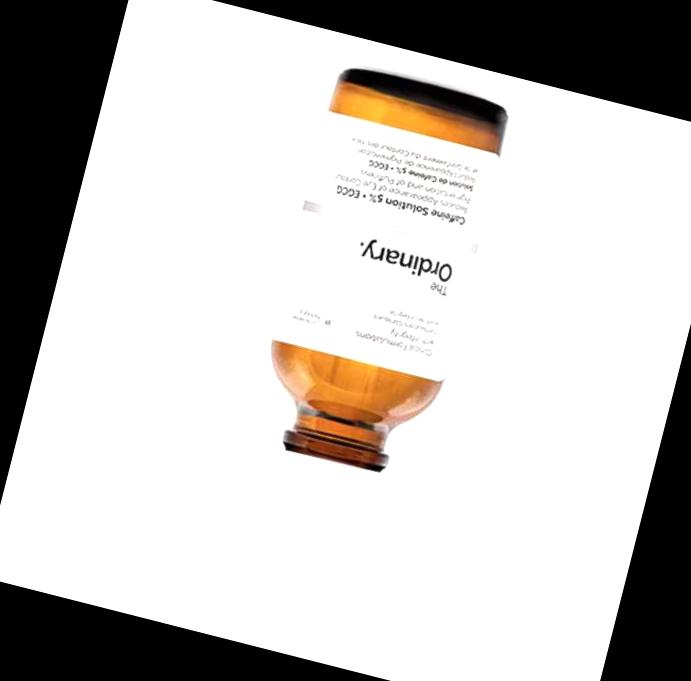cosmetic: (200, 64, 515, 649)
